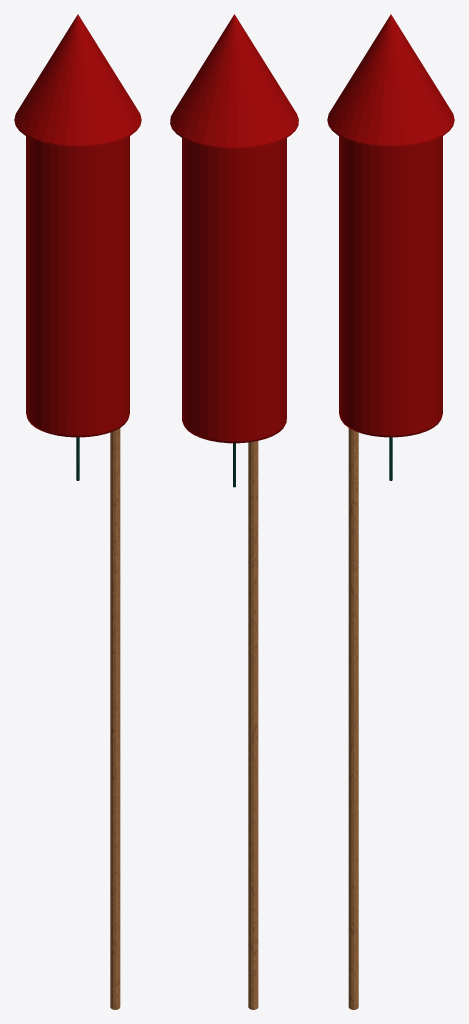
File: uploads_files_2755381_rocket_Unity.fbx
3 renders of one model, left to right at view 1: azimuth 90°, elevation 25°; view 2: azimuth 150°, elevation 25°; view 3: azimuth 270°, elevation 25°, orthographic.
Parts seen in each view (by area): view 1: rocket; view 2: rocket; view 3: rocket.
Boxes of the visible parts, <box> form: rocket: <box>14,14,141,1009</box>; rocket: <box>170,14,298,1009</box>; rocket: <box>327,14,454,1009</box>.
Size of the model in its own units: 8.59 by 74.04 by 8.59.
